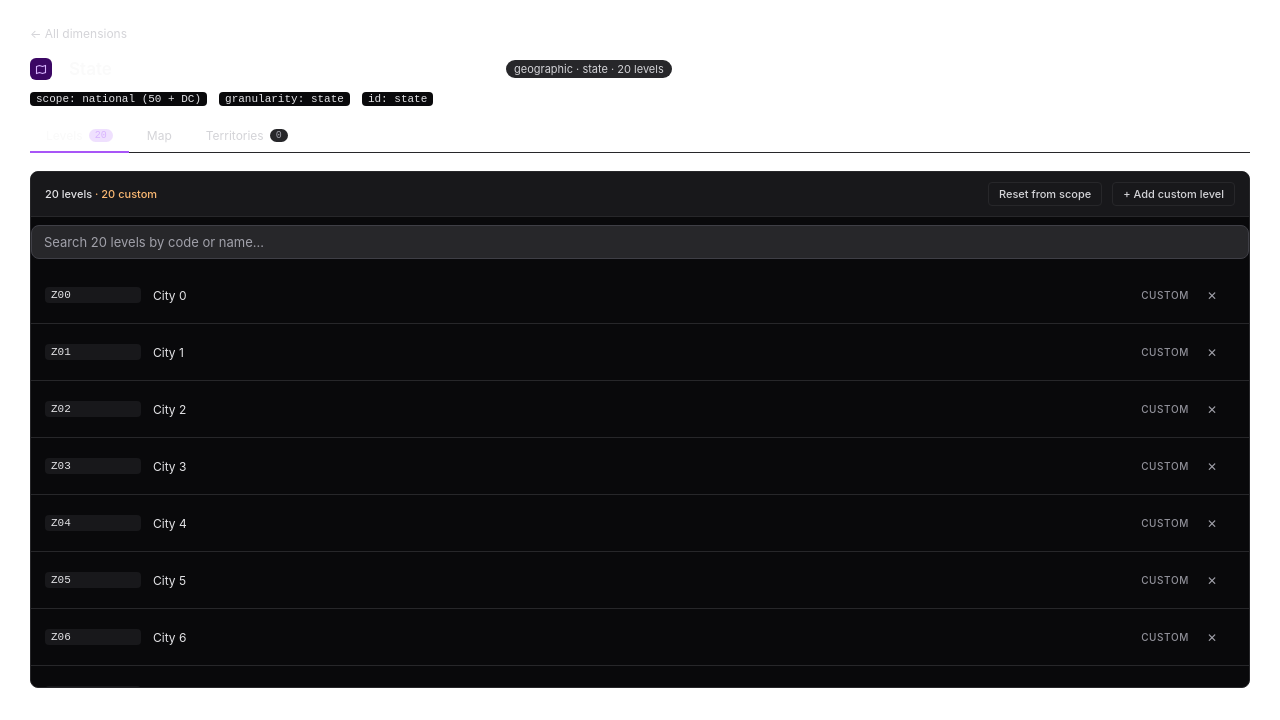
Test: <GeoDimEditor> › filters the level list via search when there are many levels
Type "wichita" into the search field with test id "rater-geo-editor-levels-search" at (640, 242), box [31, 225, 1249, 259]
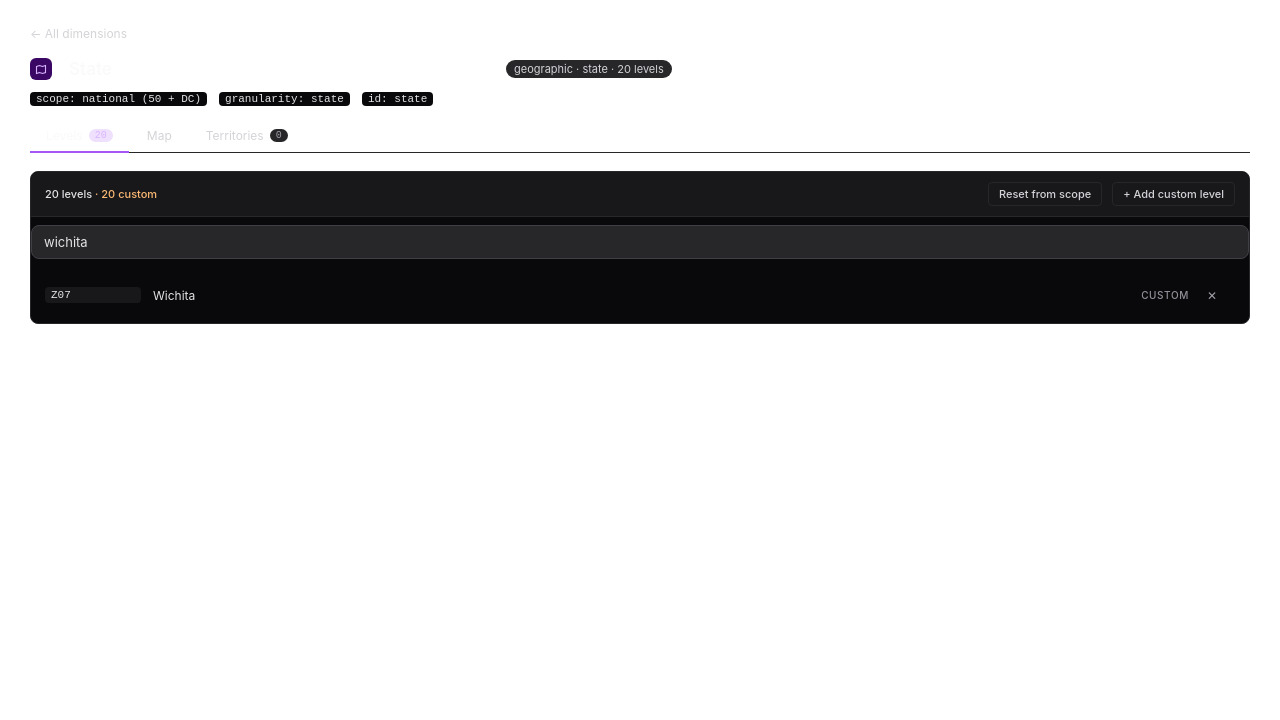
Expected: the number of list items with class "rater-geo-editor__levels-row" is 1, [45, 286, 1223, 304]
